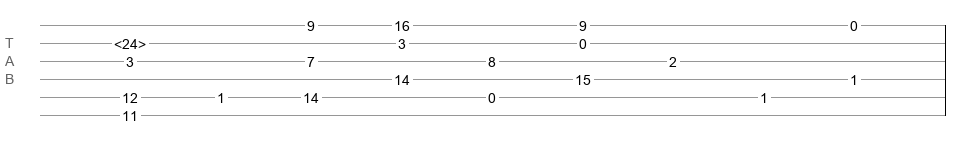0: (488, 90, 496, 100), (579, 36, 587, 46), (850, 18, 858, 28)
1: (217, 90, 225, 100), (760, 90, 768, 100), (850, 72, 858, 82)
11: (122, 108, 138, 118)
12: (122, 90, 138, 100)
14: (303, 90, 319, 100), (394, 72, 410, 82)
15: (575, 72, 591, 82)
16: (394, 18, 410, 28)
2: (669, 54, 677, 64)
3: (126, 54, 134, 64), (398, 36, 406, 46)
7: (307, 54, 315, 64)
8: (488, 54, 496, 64)
9: (307, 18, 315, 28), (579, 18, 587, 28)
harmonic: (114, 36, 146, 46)
